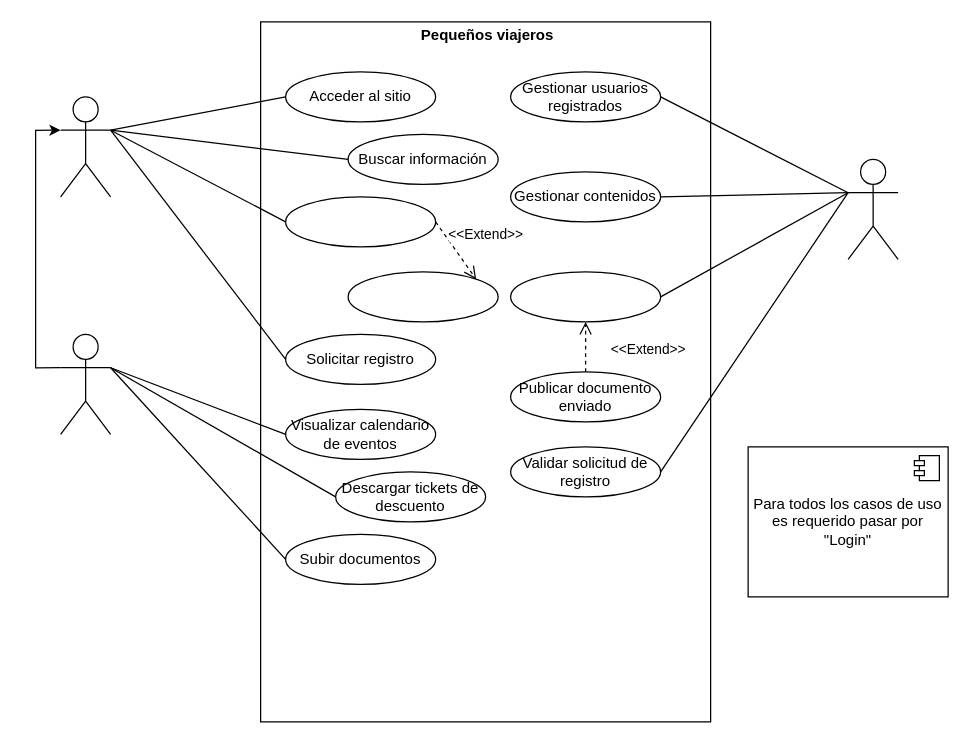
Image size: 970x744. Some labels were removed from this diagram. Each missing label, with the centre of its shape:
"Descargar documentos" goes at (x=422, y=296).
"Revisar documentos enviados" goes at (x=585, y=296).
"Usuario" goes at (x=85, y=146).
"Usuario Registrado" goes at (x=85, y=383).
"Visualizar contenidos" goes at (x=360, y=221).
"Wedmarter" goes at (x=872, y=208).
